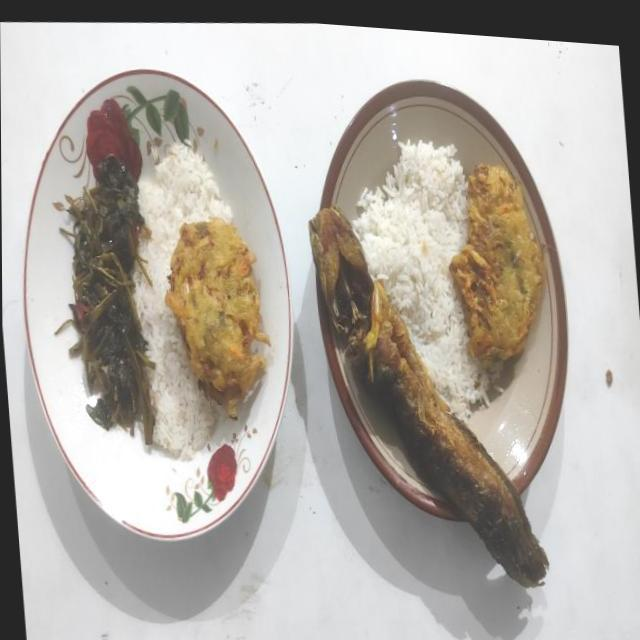nasi_putih: (352, 142, 489, 422), (133, 143, 232, 460)
tumis_kangkung: (56, 154, 154, 444)
